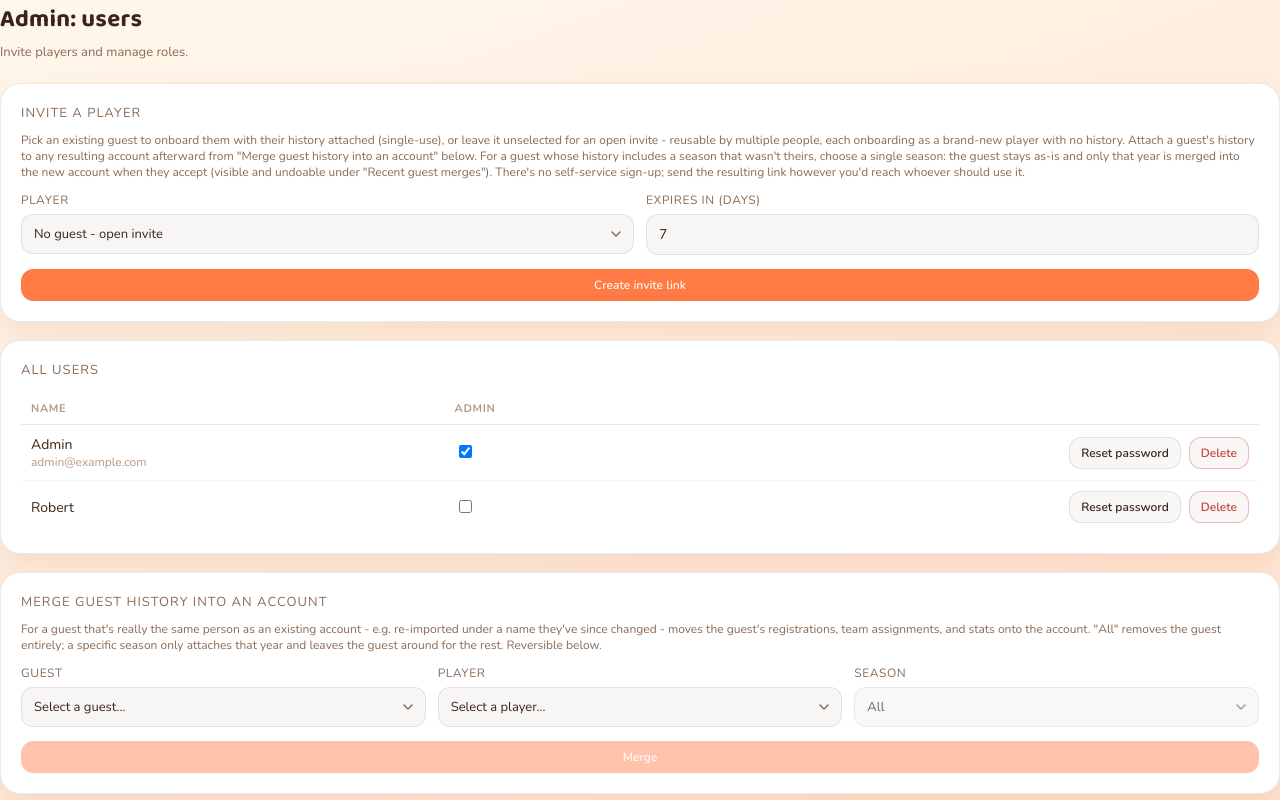
Scenario: AdminUsers - inviting › shows the server's error when creating fails
Click the button "Create invite link".
click(640, 285)  # box [21,269,1259,301]
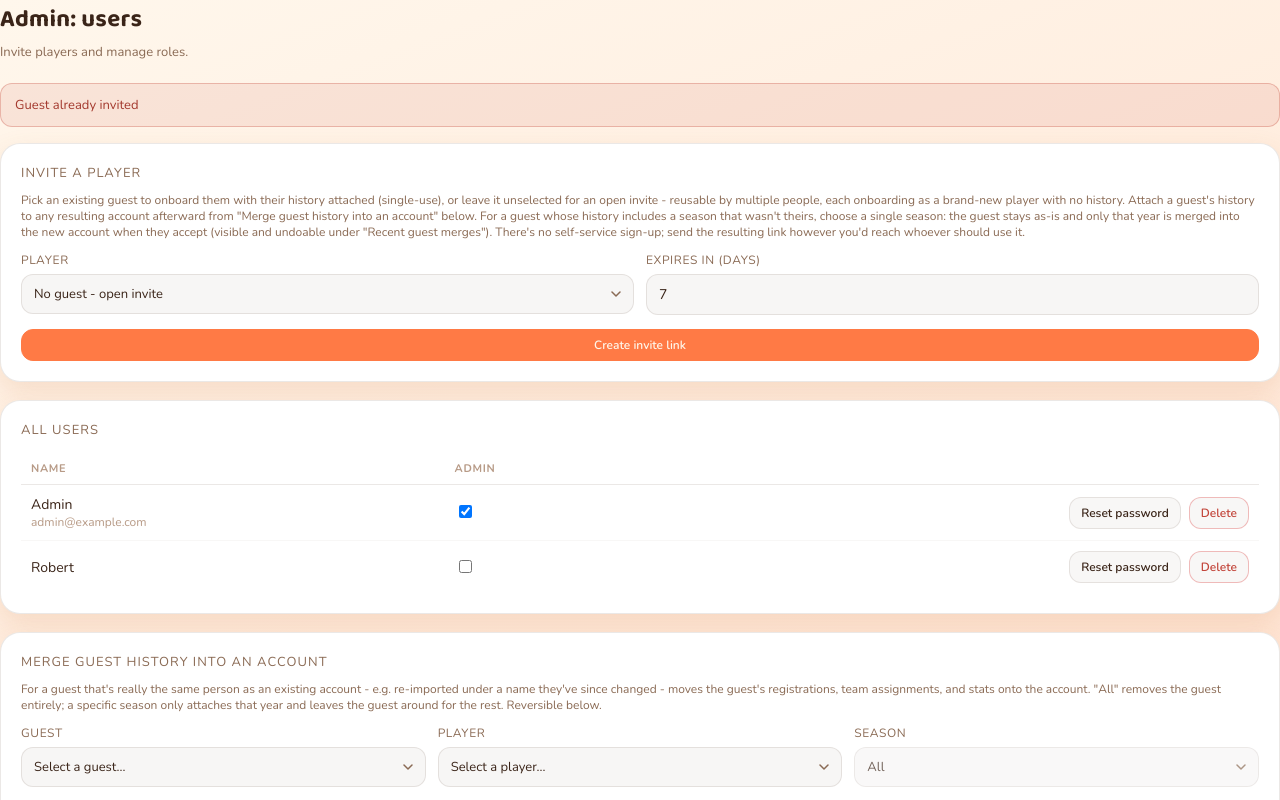
Check: the text "Guest already invited" is shown, box [0,83,1279,127]
